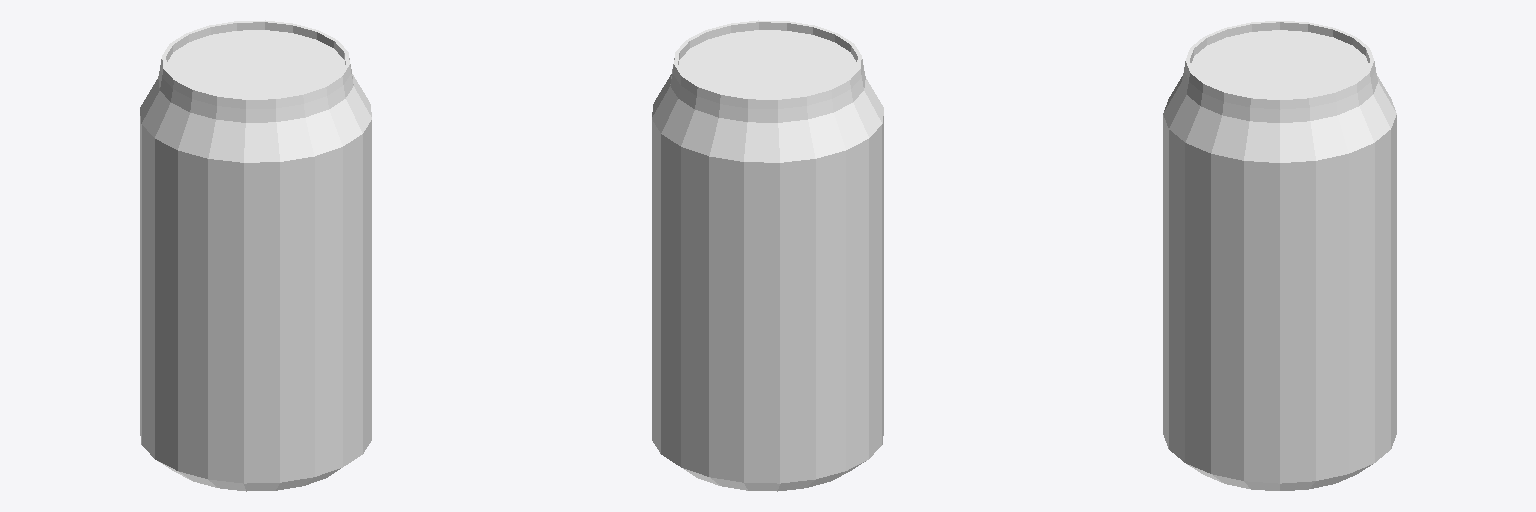
The robot description file, URDF, robot "coke_can":
<?xml version="1.0"?>
<robot name="coke_can">
  <link name="Can">
    <inertial>
      <origin rpy="0 0 0" xyz="0 0 0.06"/>
      <mass value="0.00"/>
      <inertia ixx="0" ixy="0" ixz="0" iyy="0" iyz="0" izz="0"/>
    </inertial>
    <visual>
      <origin rpy="0 0 0" xyz="0 0 0"/>
      <geometry>
        <mesh filename="coke_can.obj" scale="1 1 1"/>
      </geometry>
      <material name="coke_can">
        <color rgba="1 1 1 1"/>
      </material>
    </visual>
    <collision>
      <origin rpy="0 0 0" xyz="0 0 0"/>
      <geometry>
        <mesh filename="coke_can_collision.obj" scale="1 1 1"/>
      </geometry>
    </collision>
  </link>
</robot>

--- Render facts (derived) ---
3 views of the same robot in one strip: view 1: azimuth 30°, elevation 25°; view 2: azimuth 150°, elevation 25°; view 3: azimuth 270°, elevation 25° (orthographic).
Robot: coke_can — 1 links, 0 joints (none); root link Can; default pose: every joint at zero.
Visible links, largest first — view 1: Can; view 2: Can; view 3: Can.
Link boxes in pixels (x1,y1,x2,y2): Can: [140, 20, 371, 491]; Can: [652, 20, 883, 491]; Can: [1163, 21, 1396, 490].
Size in the robot's own frame: 0.0645 by 0.0645 by 0.1191 metres.
Meshes: 1 distinct files referenced, 1 mesh visuals loaded (1 OBJ).